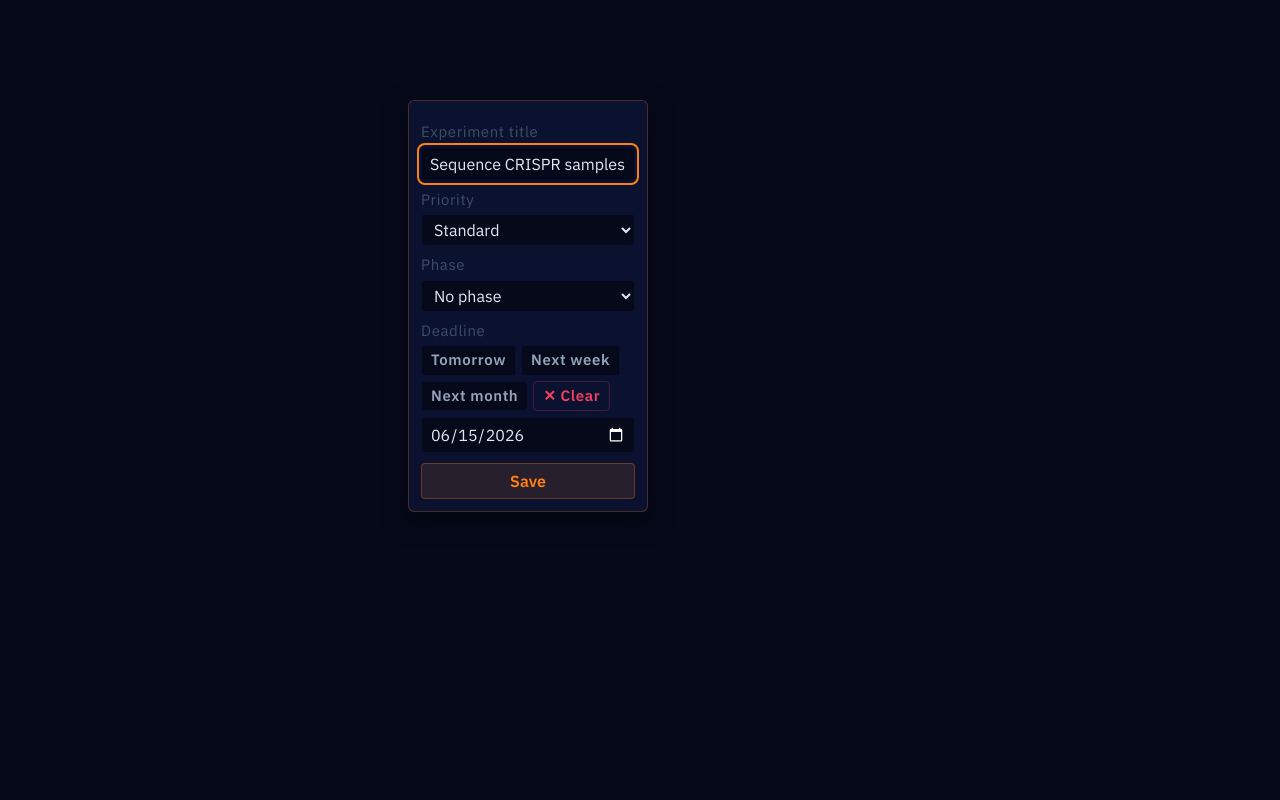
it: CardEditPopover › shows error message when save fails
The image size is (1280, 800).
Step 1. Click the button "Save" → point(528, 481), box 421,463 -> 635,499
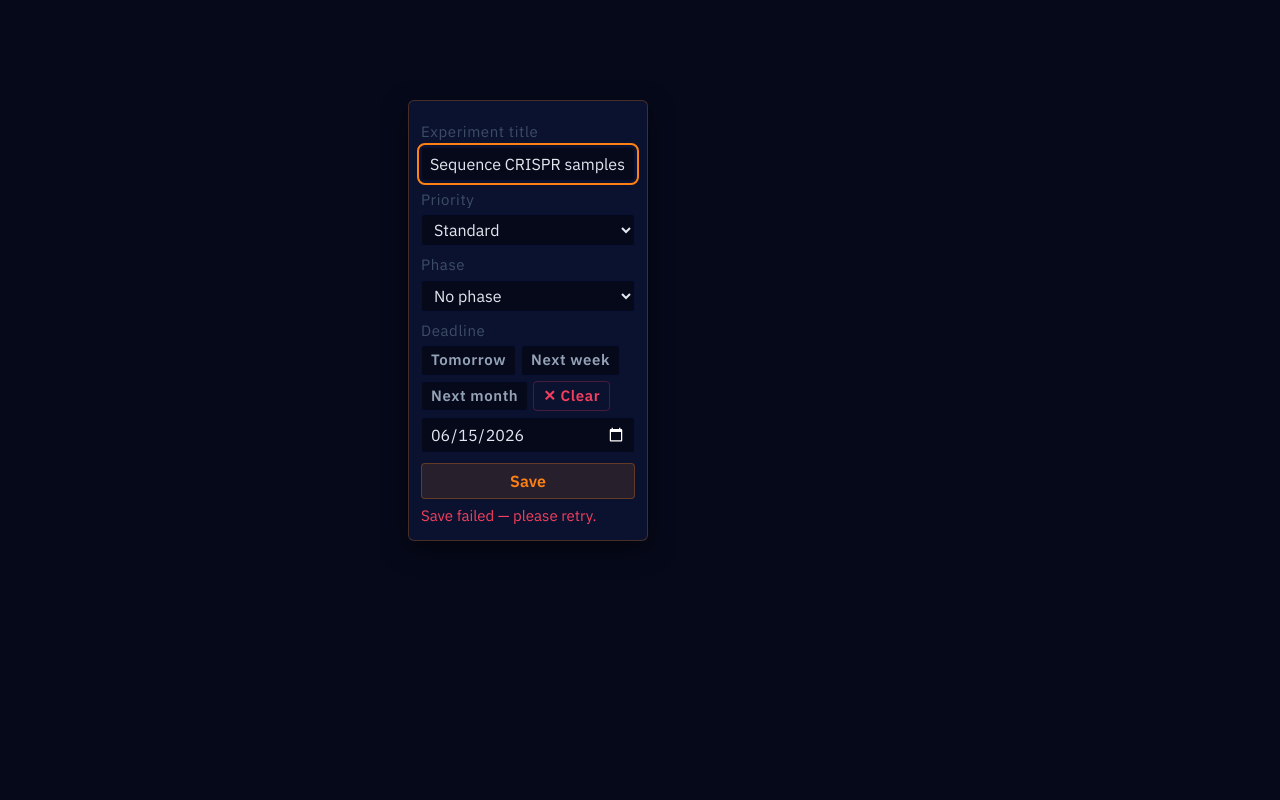
Now the text "Save failed — please retry." is shown, box 421,506 -> 596,525
